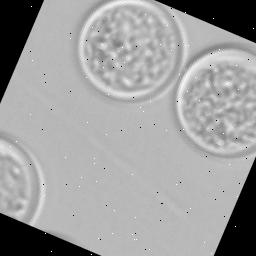picoshell: (79, 0, 184, 100), (176, 48, 256, 157), (0, 132, 46, 224)
